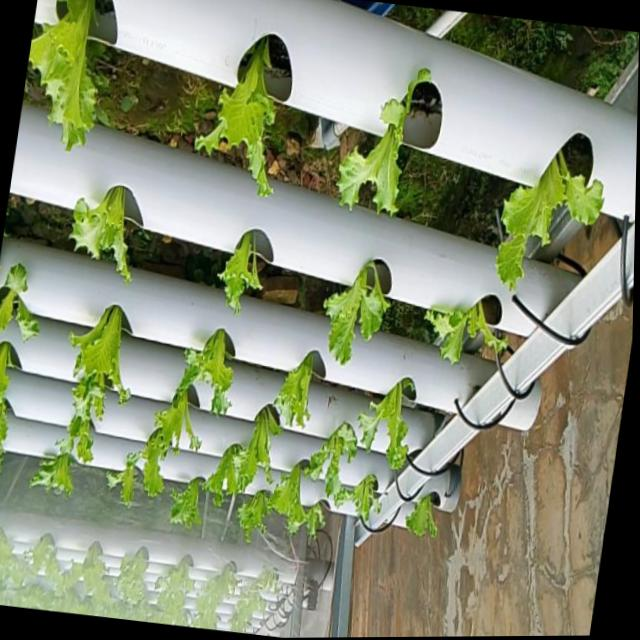Baby: (502, 154, 611, 295), (342, 71, 436, 218), (198, 38, 279, 199), (28, 0, 101, 151), (328, 265, 394, 369), (132, 386, 205, 477), (224, 406, 287, 496), (75, 188, 134, 284), (430, 308, 516, 371), (362, 382, 419, 475), (165, 450, 224, 536), (308, 424, 362, 507), (273, 464, 328, 539), (78, 305, 126, 390), (73, 354, 117, 443), (222, 234, 265, 316), (277, 354, 322, 431), (0, 263, 43, 341), (200, 331, 237, 415), (339, 477, 386, 530), (110, 452, 146, 506), (34, 452, 77, 495), (240, 492, 274, 544), (409, 502, 442, 544), (0, 394, 13, 473)
